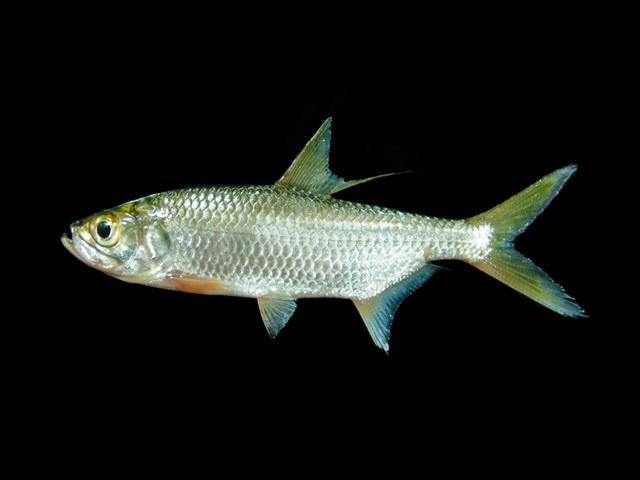Mulut: (48, 208, 90, 258)
Sirip Anal: (354, 256, 446, 356)
Sirip Dada: (167, 263, 240, 313)
Sirip Ekor: (475, 152, 597, 326)
Sirip Perut: (256, 282, 308, 348)
Sirip Punggung: (266, 105, 410, 201)
